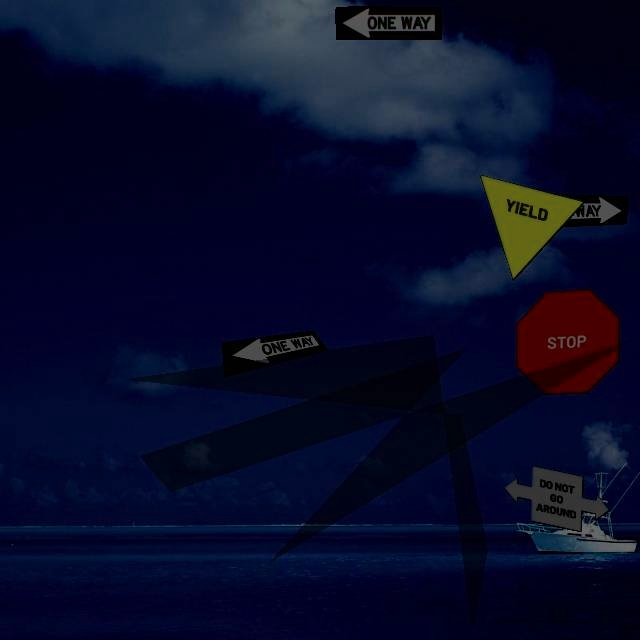DO_NOT_GO_AROUND: (503, 465, 610, 532)
ONE_WAY_ left: (221, 330, 328, 377), (335, 6, 442, 40)
ONE_WAY_ right: (521, 193, 628, 228)
STOP: (515, 288, 620, 395)
YIELD: (479, 174, 585, 281)
